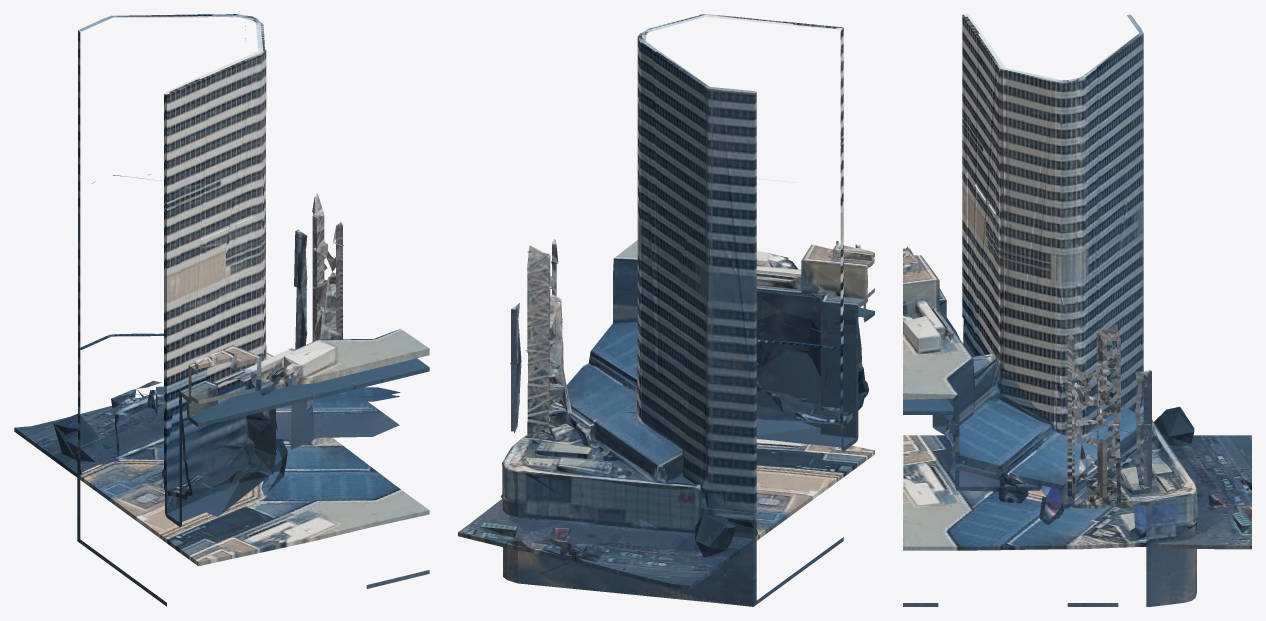
The model's file is chunk_-3_0.glb.
3 renders of one model, left to right at view 1: azimuth 30°, elevation 25°; view 2: azimuth 150°, elevation 25°; view 3: azimuth 270°, elevation 25°, orthographic. The views are drawn at different scales.
Parts seen in each view (by area): view 1: hero-chunk; view 2: hero-chunk; view 3: hero-chunk.
Part boxes in pixels (<box>): hero-chunk: <box>14,14,429,606</box>; hero-chunk: <box>458,14,874,606</box>; hero-chunk: <box>903,14,1251,606</box>.
Bounding box in the file's own units: 56.66 × 117 × 76.32.
3 materials, 3 textured.
